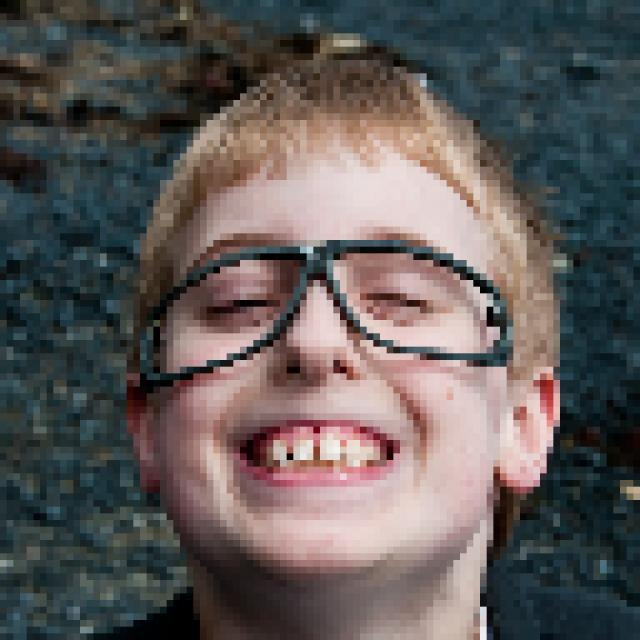happy: (129, 90, 537, 623)
